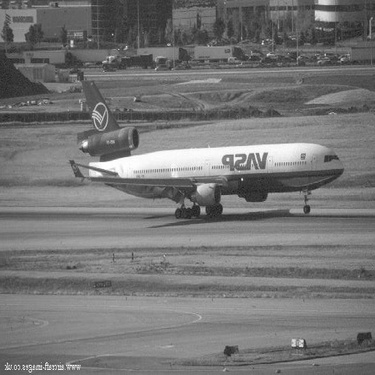airplane: (61, 77, 347, 222)
